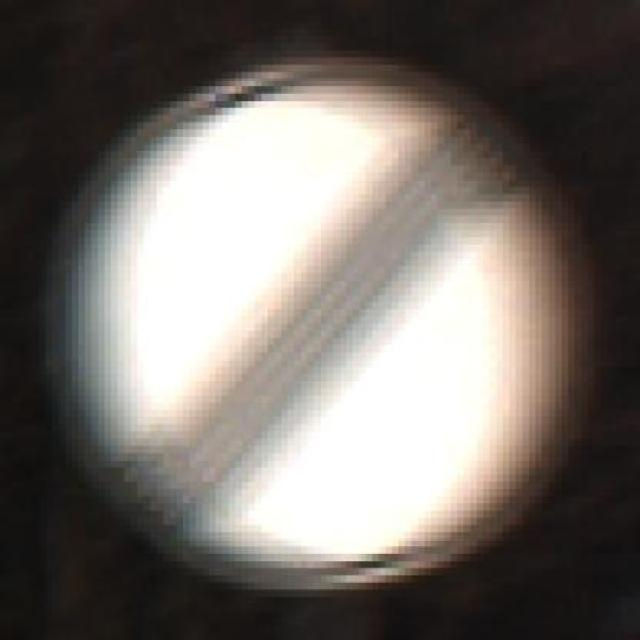End of all speed and passing limits: (41, 55, 602, 596)
